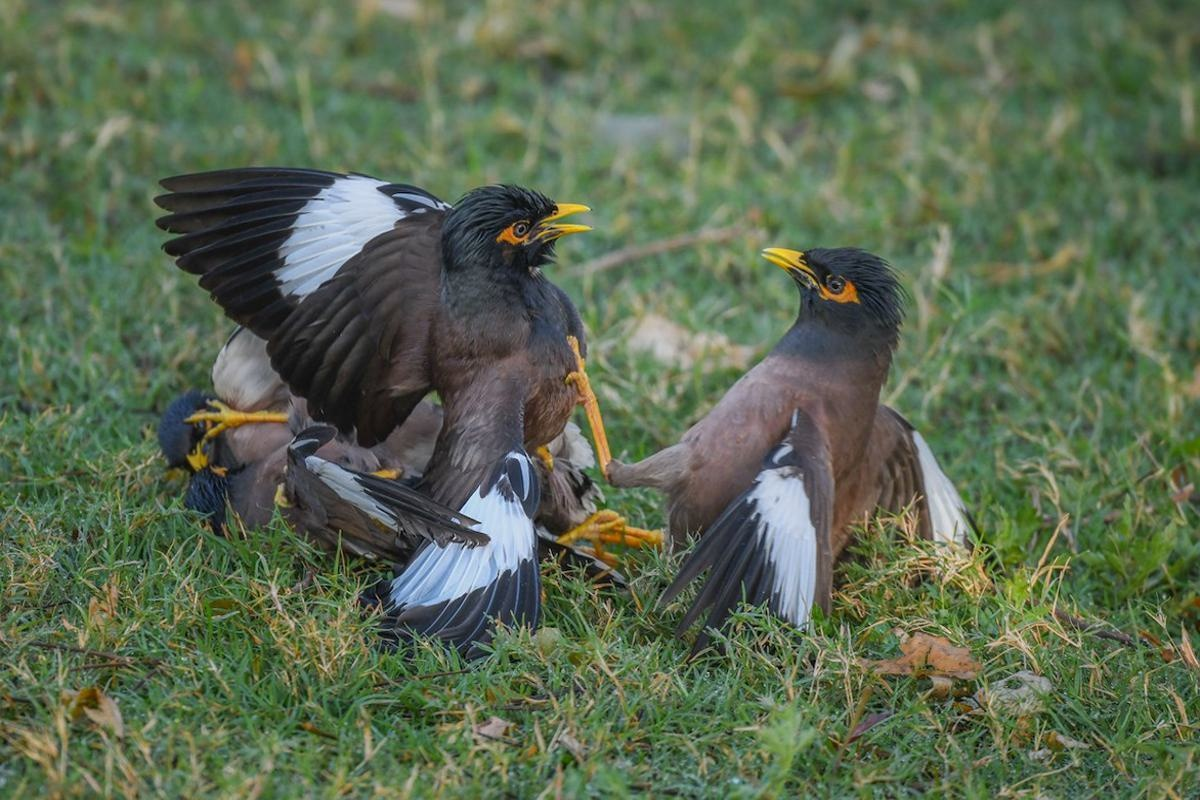myna: (687, 228, 989, 598), (250, 193, 623, 454)
